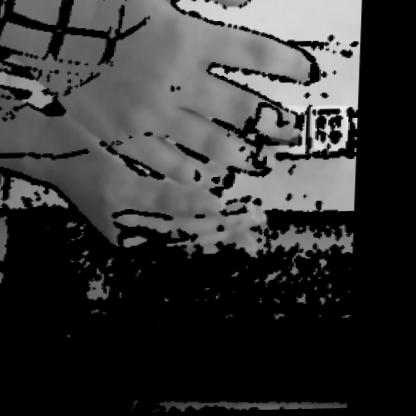dua: (0, 0, 332, 264)
